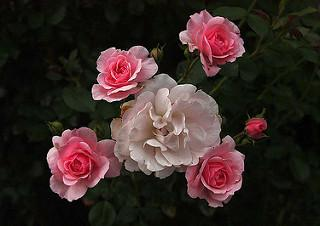Rose: (115, 74, 224, 184), (44, 126, 119, 201), (177, 5, 246, 74), (183, 135, 246, 207), (88, 45, 160, 103)
